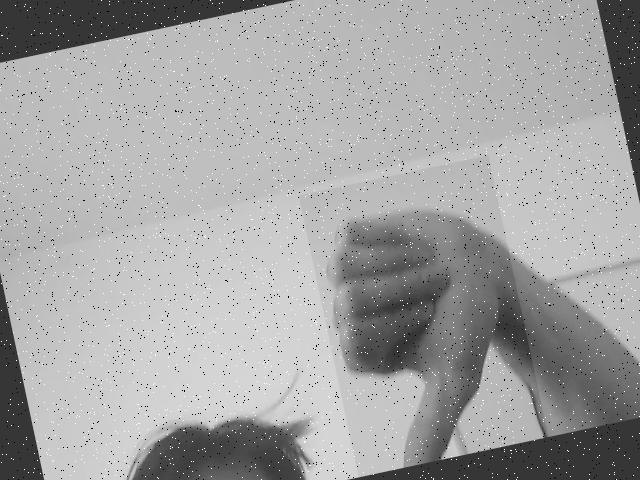bad: (298, 155, 548, 477)
